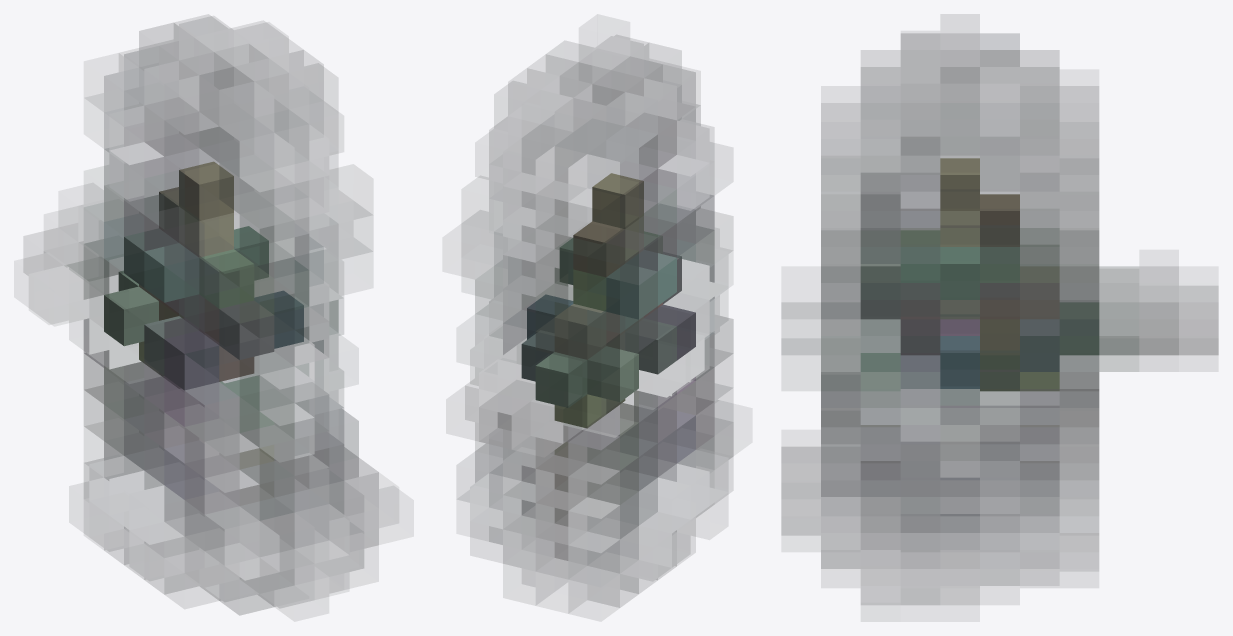
Rendered from iter_20.obj.
3 renders of one model, left to right at view 1: azimuth 30°, elevation 25°; view 2: azimuth 150°, elevation 25°; view 3: azimuth 270°, elevation 25°, orthographic. The views are drawn at different scales.
Visible parts, largest first — view 1: iter_20; view 2: iter_20; view 3: iter_20.
Boxes of the visible parts, bbox=[...] form: iter_20: bbox=[23, 16, 398, 614]; iter_20: bbox=[457, 34, 733, 613]; iter_20: bbox=[781, 33, 1218, 605].
Size of the model in its own units: 0.8 by 1.5 by 1.1.
